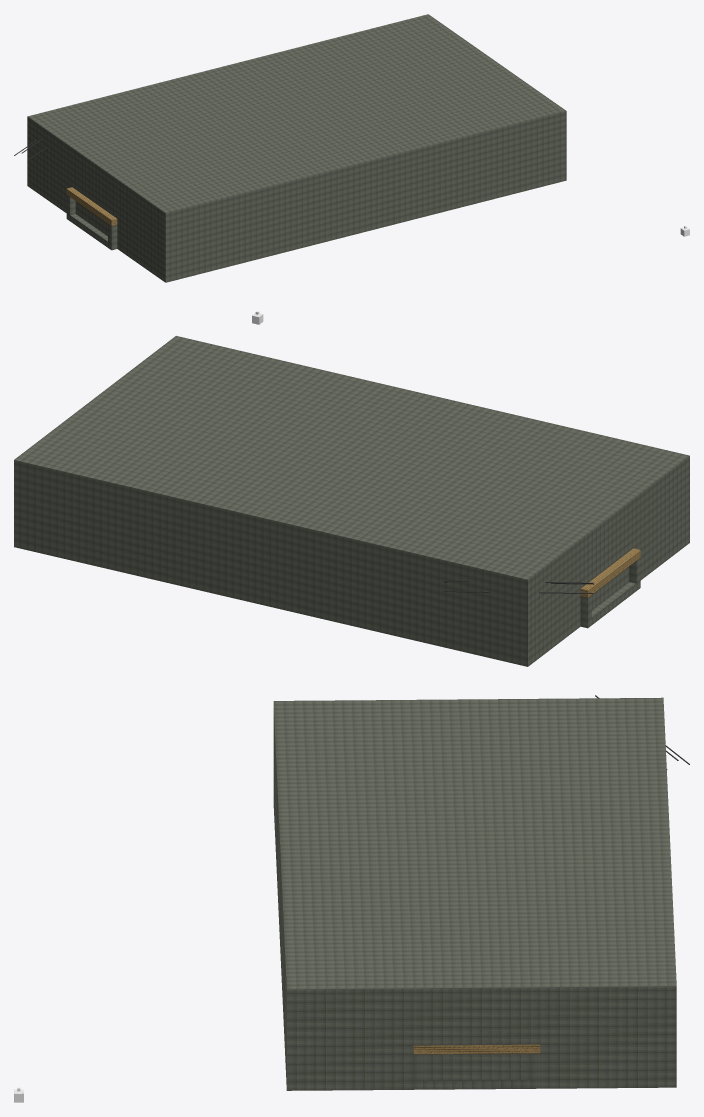
File: Proto07.glb
3 renders of one model, top to bottom at view 1: azimuth 30°, elevation 25°; view 2: azimuth 150°, elevation 25°; view 3: azimuth 270°, elevation 25°, orthographic. The views are drawn at different scales.
Parts seen in each view (by area): view 1: Object_3, Object_2; view 2: Object_3, Object_2; view 3: Object_3, Object_2.
Part boxes in pixels (x1=…): Object_3: x1=27, y1=14, x2=566, y2=282; Object_2: x1=66, y1=187, x2=117, y2=225; Object_3: x1=14, y1=336, x2=689, y2=666; Object_2: x1=580, y1=548, x2=640, y2=597; Object_3: x1=273, y1=697, x2=676, y2=1090; Object_2: x1=413, y1=1044, x2=540, y2=1054.
Bounding box in the file's own units: 56.28 × 8.55 × 47.84.
Materials: 5 (4 with a texture image).
